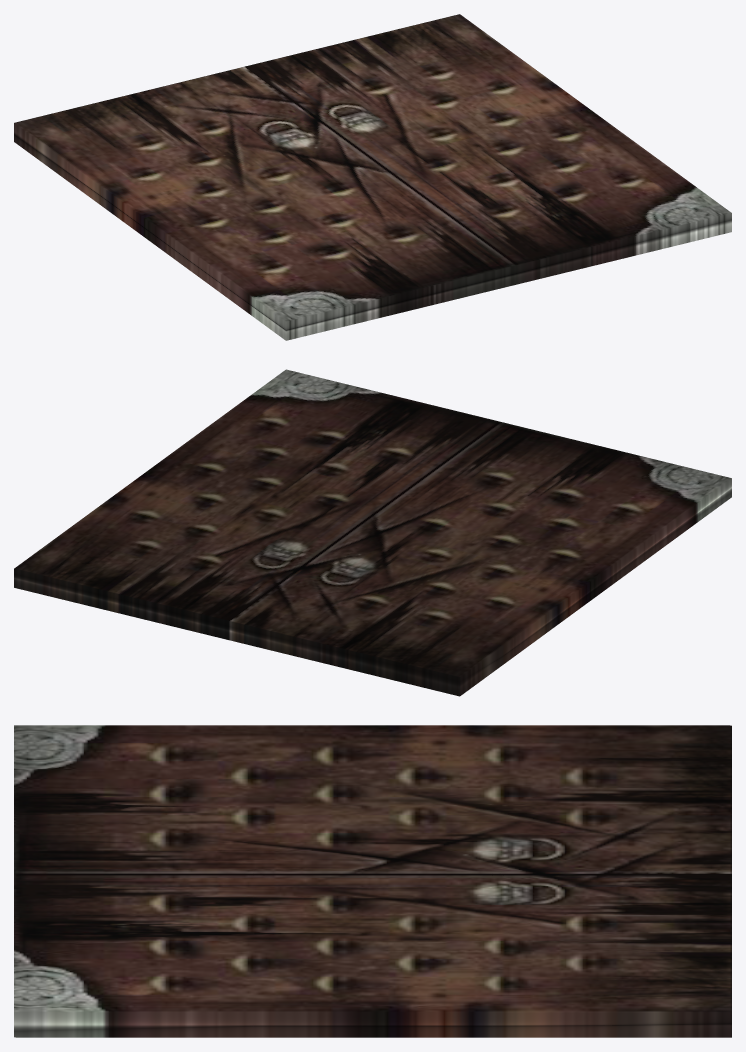
3 renders of one model, top to bottom at view 1: azimuth 30°, elevation 25°; view 2: azimuth 150°, elevation 25°; view 3: azimuth 270°, elevation 25°, orthographic. The views are drawn at different scales.
Visible parts, largest first — view 1: 0; view 2: 0; view 3: 0.
Part boxes in pixels (x1,y1,x2,y2): 0: (14,14,731,340); 0: (14,369,731,696); 0: (14,725,731,1037).
Size of the model in its own units: 102 by 4.2 by 108.
